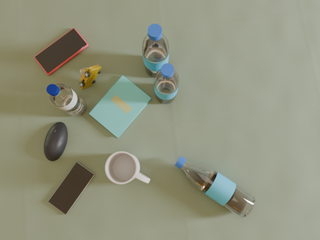book: (89, 75, 151, 138)
bottle: (175, 156, 255, 218), (142, 24, 169, 78), (47, 84, 86, 116), (154, 63, 179, 104)
cup: (105, 151, 150, 184)
mouse: (44, 122, 68, 161)
phone: (34, 28, 88, 75), (49, 162, 95, 214)
toy_car: (80, 65, 101, 89)
